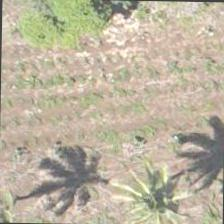Kelapa_Sawit: (120, 164, 213, 223)
